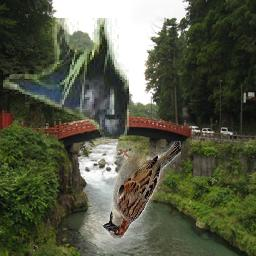Crow: (3, 19, 129, 140)
Sparrow: (103, 142, 182, 239)
